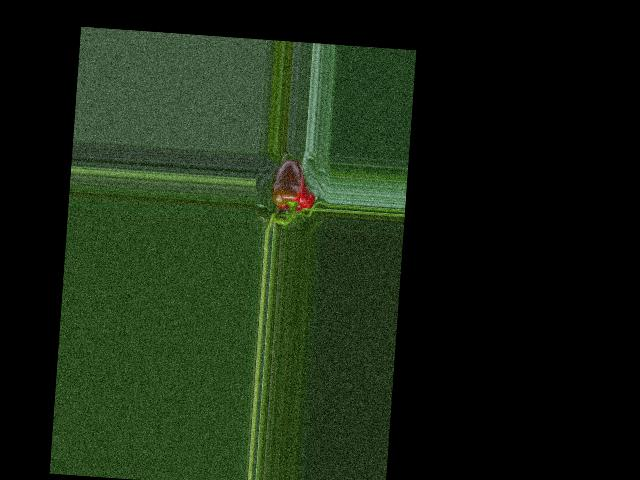bell_pepper: (264, 154, 320, 219)
